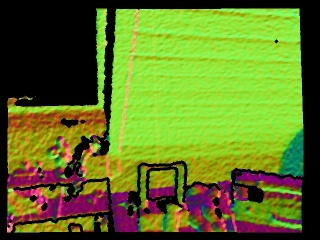station: (135, 162, 191, 232)
